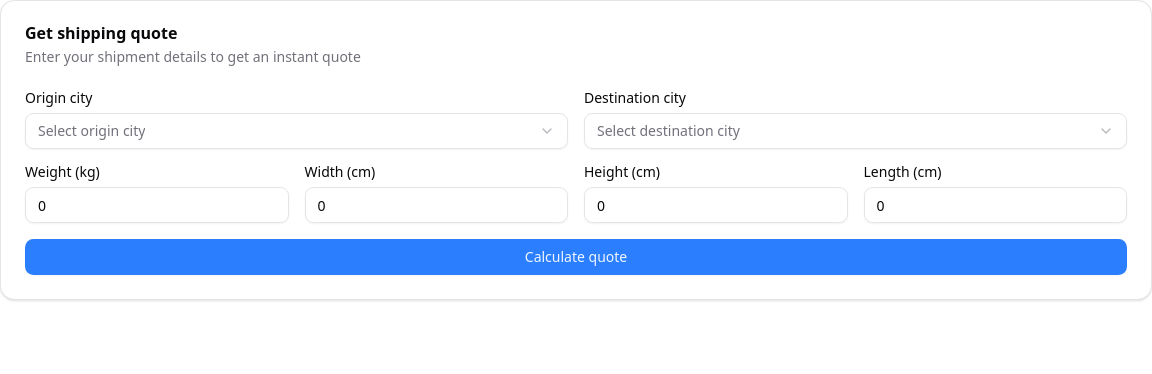
Test: QuoteForm › should display validation errors for invalid data
The width and height of the screenshot is (1152, 374).
Step 1. Click the button "Calculate quote" → (576, 257), box [25,239,1127,275]
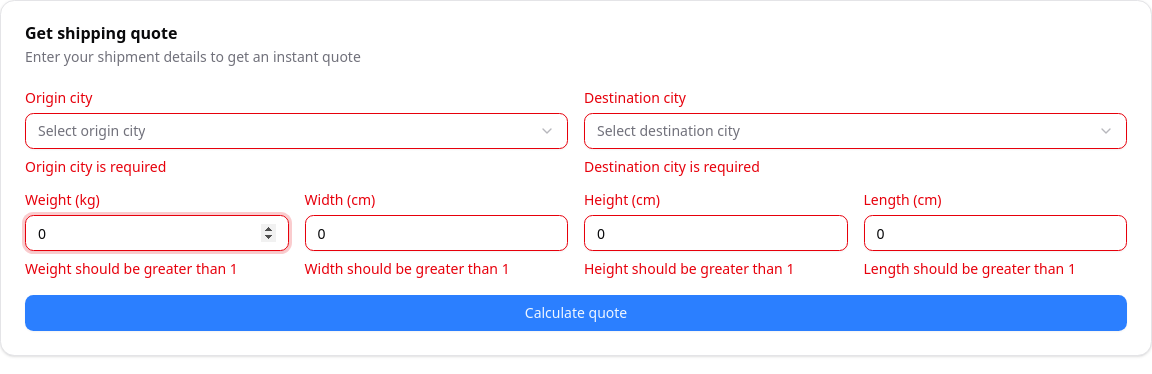
Result: the text "Origin city is required" is shown at [25,157,166,176]
Result: the text "Destination city is required" is shown at [584,157,760,176]
Result: the text "Weight should be greater than 1" is shown at [25,259,238,278]
